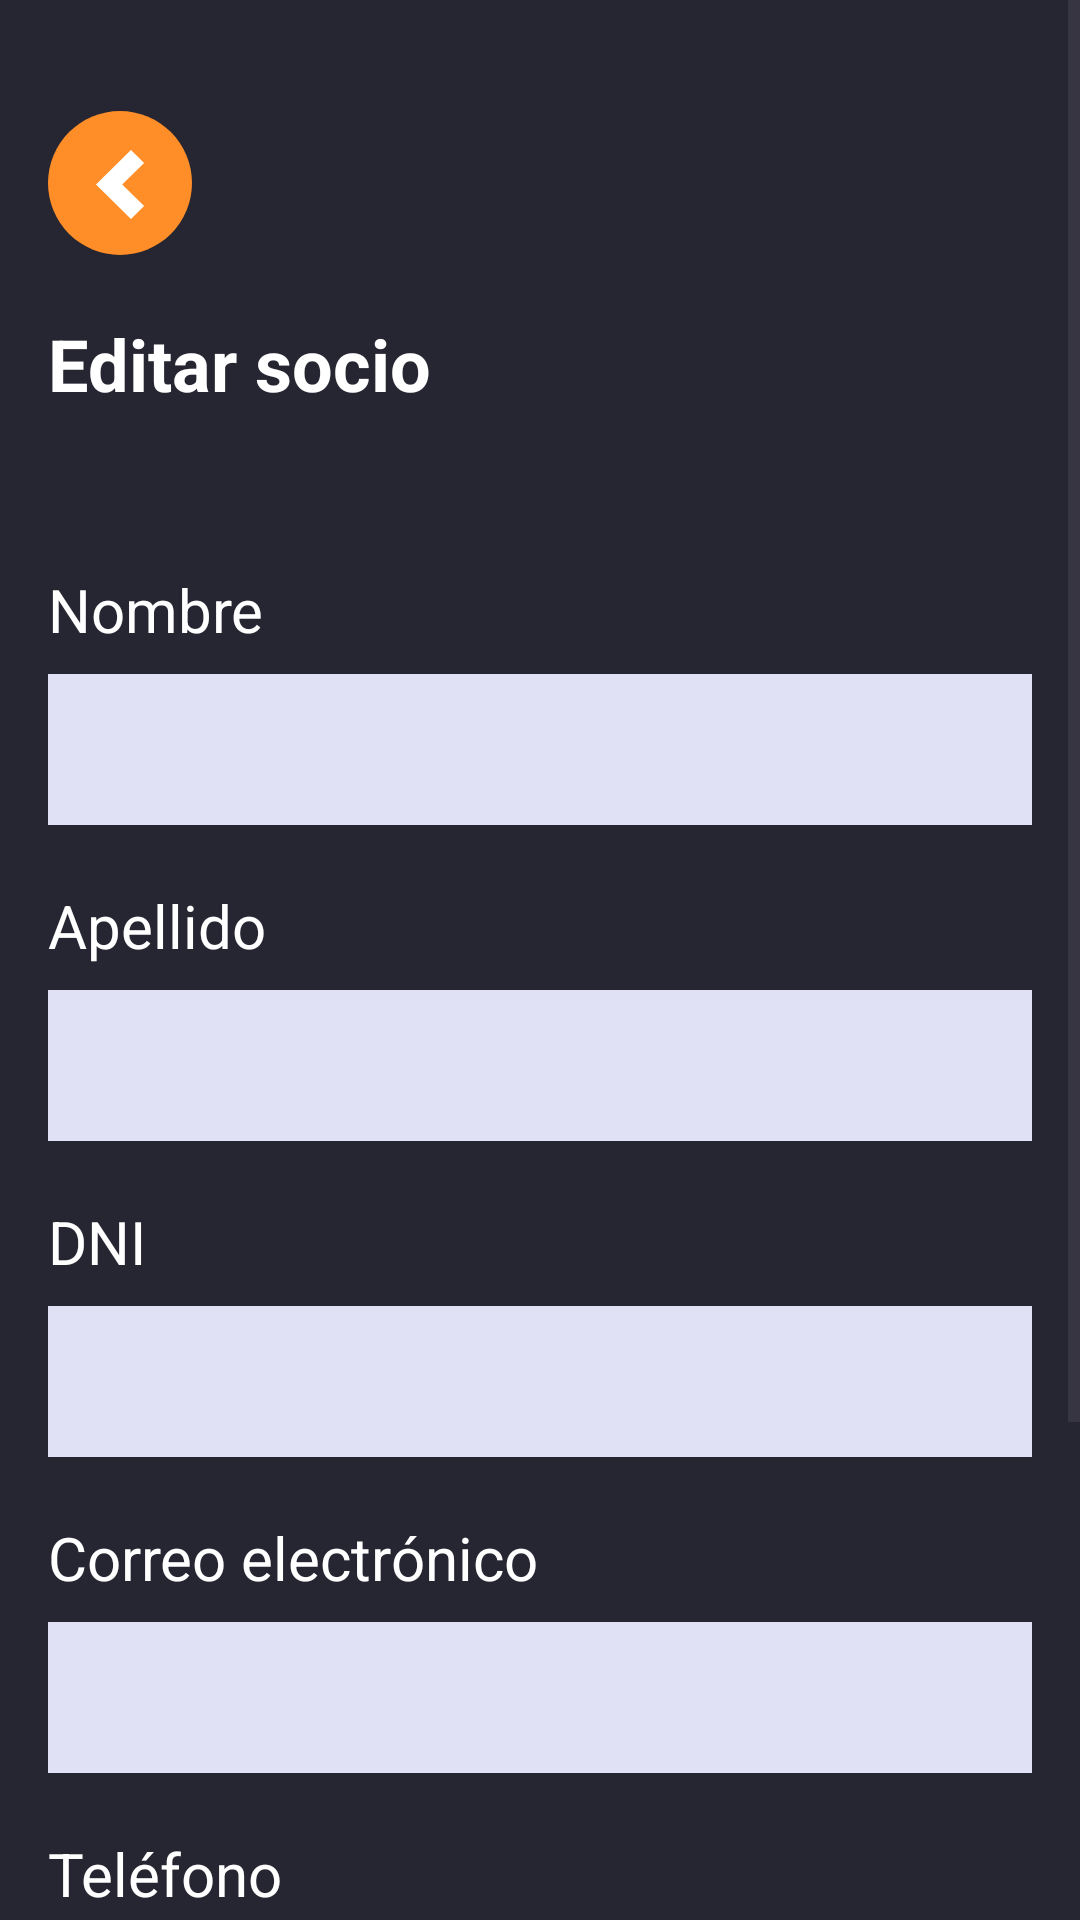

Icons on this 1080x1920 Android screen, each with its box as (x1, y1, x2, y2):
Volver: (48, 111, 192, 255)
